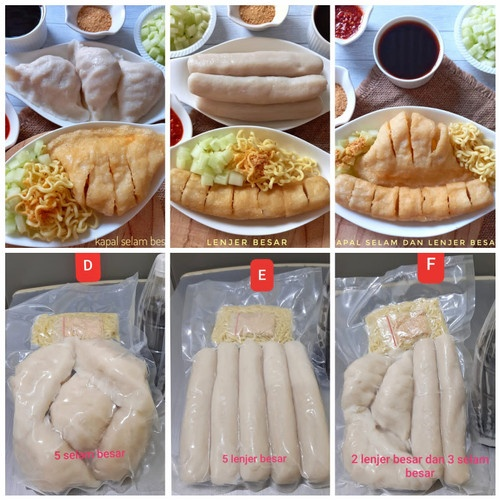pempek: (338, 110, 495, 222), (49, 129, 161, 213), (172, 168, 329, 222)
